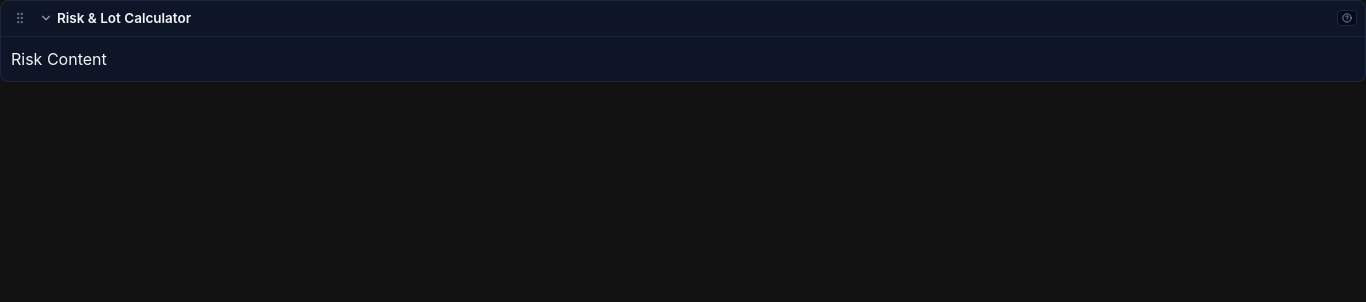
Test: Milestone 5 Polish: Hotkey Cheat Sheet, Key Recorder & Backup Round-Trip › keeps widget shortcuts in WidgetFrame ShortcutHoverPopover and separates Global Keys in SettingsOverlay
The image size is (1366, 302).
Later steps or results of the test are not shown.
Click the button named "Risk & Lot Calculator Controls shortcuts" at point(1347, 18), box 1337,10 -> 1357,26
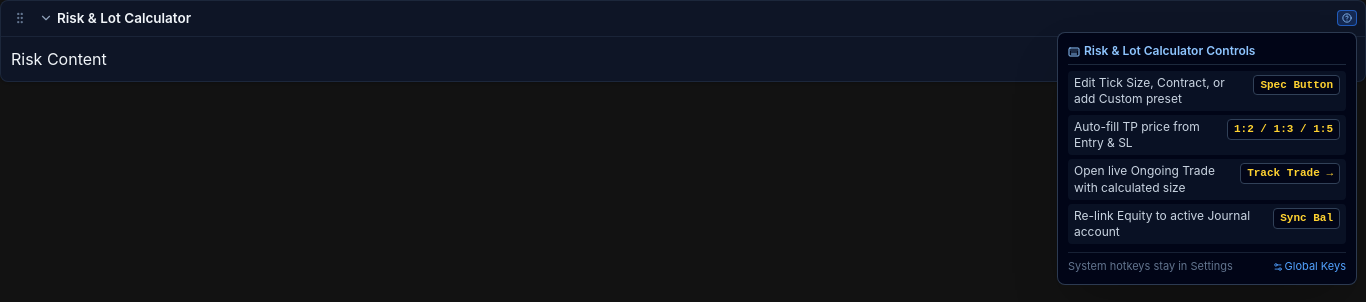
Check: the tooltip shows "Track Trade →", box 1247,167 -> 1333,179
